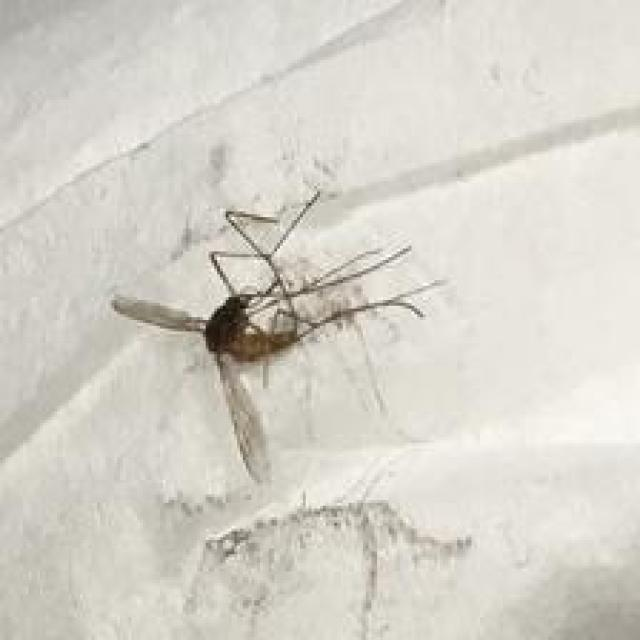Culex: (110, 187, 447, 487)
